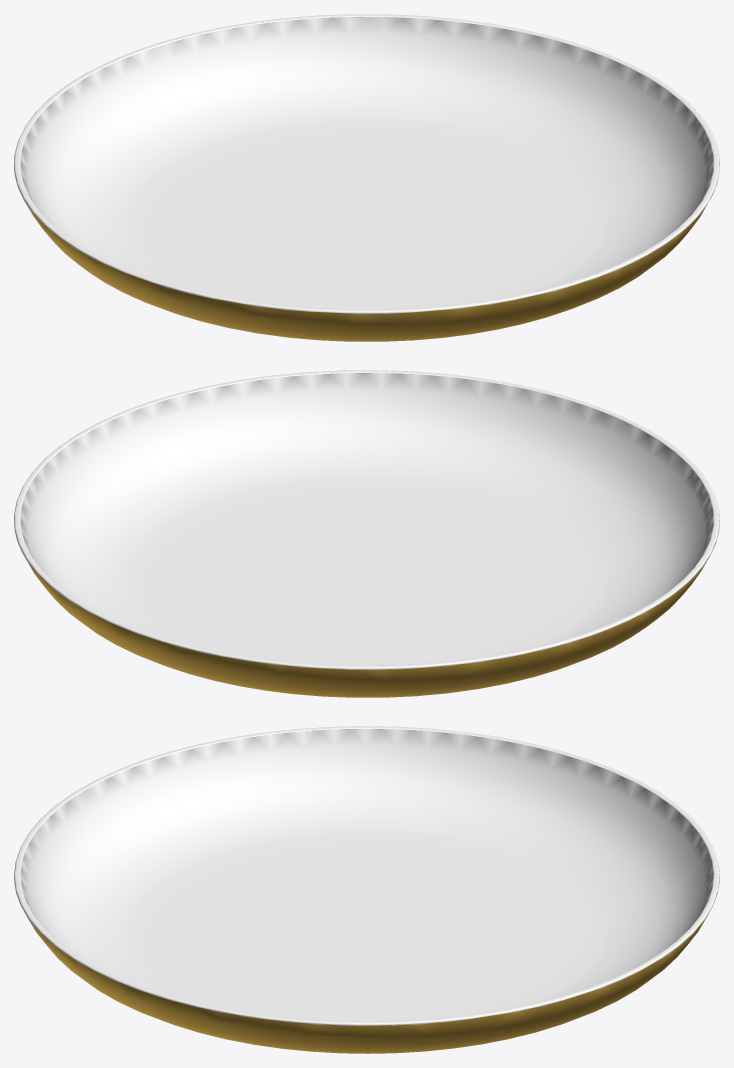
File: plate.glb
3 renders of one model, top to bottom at view 1: azimuth 30°, elevation 25°; view 2: azimuth 150°, elevation 25°; view 3: azimuth 270°, elevation 25°, orthographic.
Parts seen in each view (by area): view 1: RoundPlate; view 2: RoundPlate; view 3: RoundPlate.
Boxes of the visible parts, x1=… form: RoundPlate: x1=14, y1=14, x2=719, y2=341; RoundPlate: x1=14, y1=370, x2=719, y2=697; RoundPlate: x1=14, y1=726, x2=719, y2=1053.
Size of the model in its own units: 2.59 by 0.2601 by 2.59.
